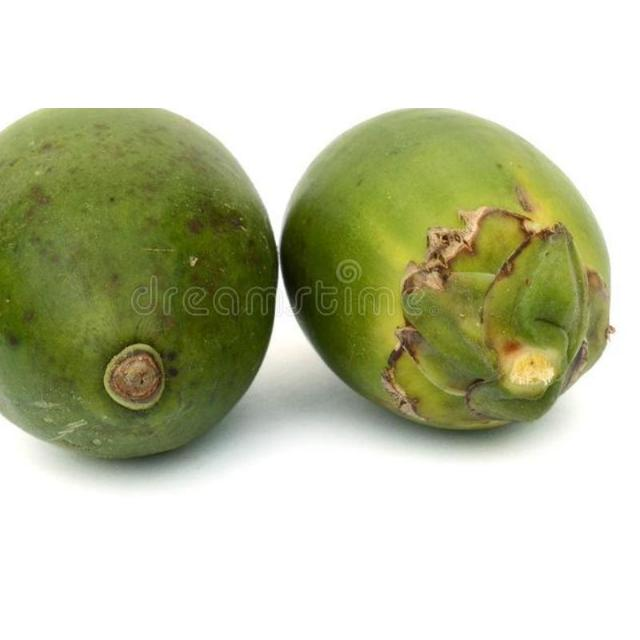good: (280, 107, 616, 432), (0, 107, 278, 461)
